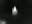person: (13, 7, 19, 18)
